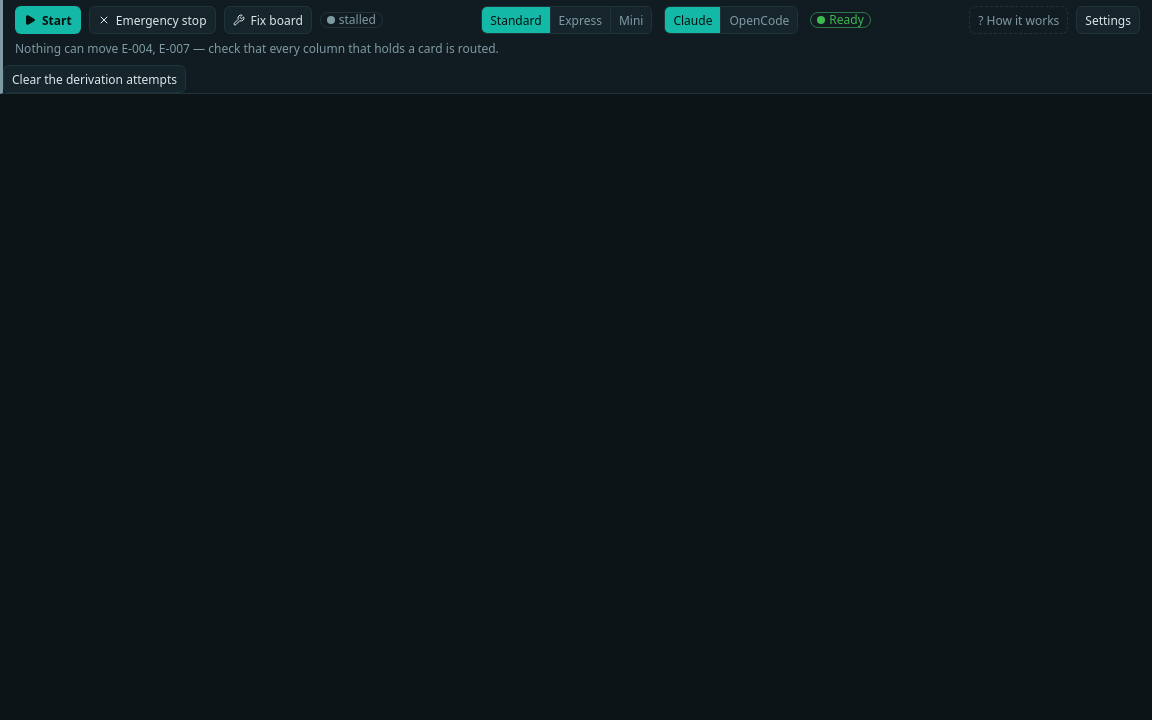
Test: the loop’s own state, as one chip › opens to the loop’s own stop sentence
The width and height of the screenshot is (1152, 720).
Step 1. Click the button with test id "ap-chip" → (351, 20), box [320,12,383,28]
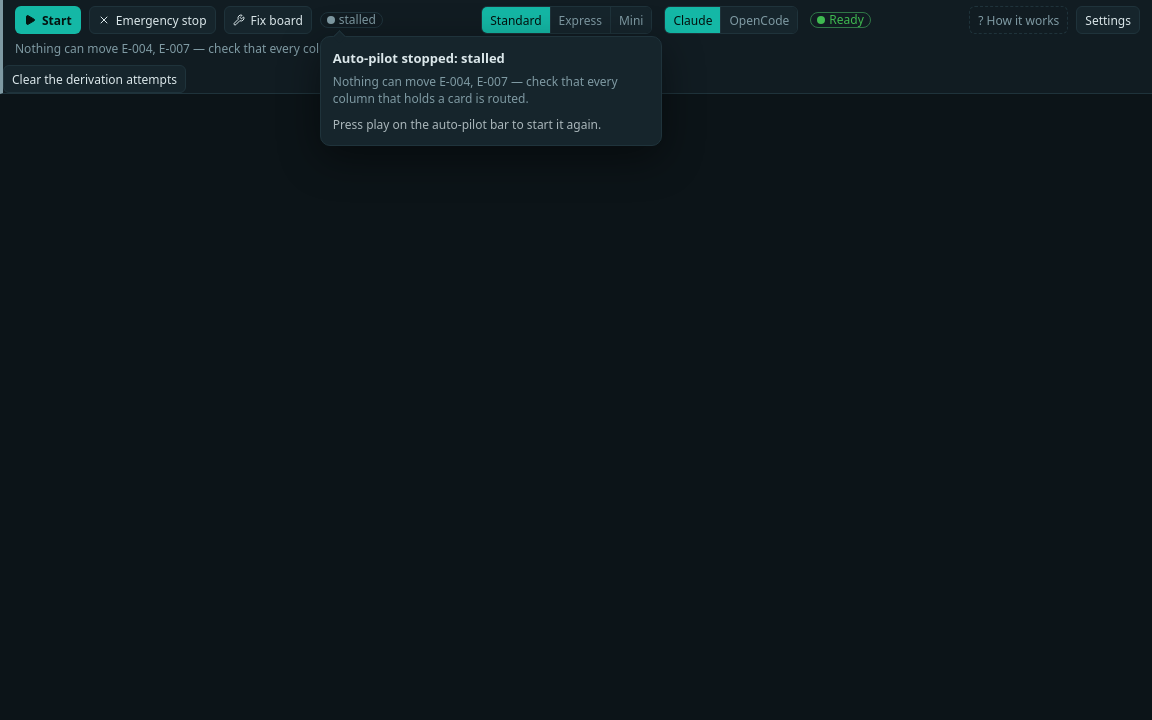
Expected: the text "Nothing can move E-004, E-007 — check that every column that holds a card is routed." is shown, [333,73,618,107]
Expected: the text "Auto-pilot stopped: stalled" is shown, [333,49,505,67]
